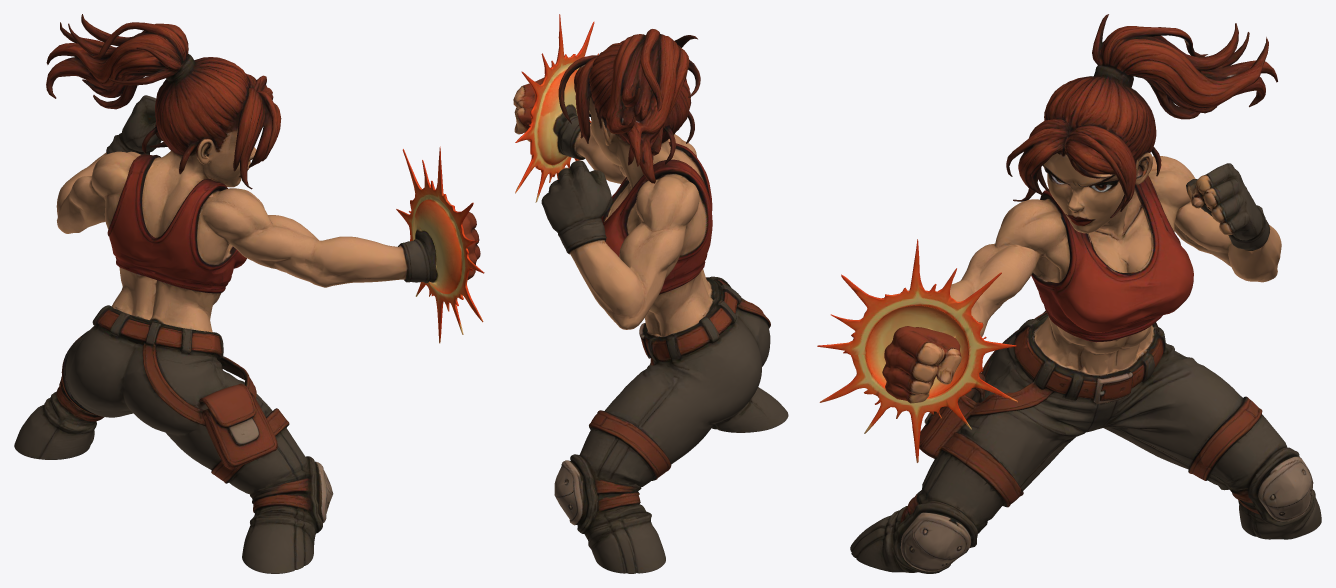
Rendered from knockoutkate3d.glb.
The picture shows the model from 3 angles, left to right: view 1: azimuth 30°, elevation 25°; view 2: azimuth 150°, elevation 25°; view 3: azimuth 270°, elevation 25°; orthographic projection. The views are drawn at different scales.
Parts seen in each view (by area): view 1: tripo_node_6faec24d-4906-44cc-ab9a-298afae0a60a; view 2: tripo_node_6faec24d-4906-44cc-ab9a-298afae0a60a; view 3: tripo_node_6faec24d-4906-44cc-ab9a-298afae0a60a.
Boxes of the visible parts, left/top/right/bottom form: tripo_node_6faec24d-4906-44cc-ab9a-298afae0a60a: left=14, top=14, right=484, bottom=573; tripo_node_6faec24d-4906-44cc-ab9a-298afae0a60a: left=513, top=14, right=788, bottom=573; tripo_node_6faec24d-4906-44cc-ab9a-298afae0a60a: left=817, top=14, right=1321, bottom=573.
Size of the model in its own units: 0.7214 by 1 by 0.8801.
Materials: 1 (1 with a texture image).
